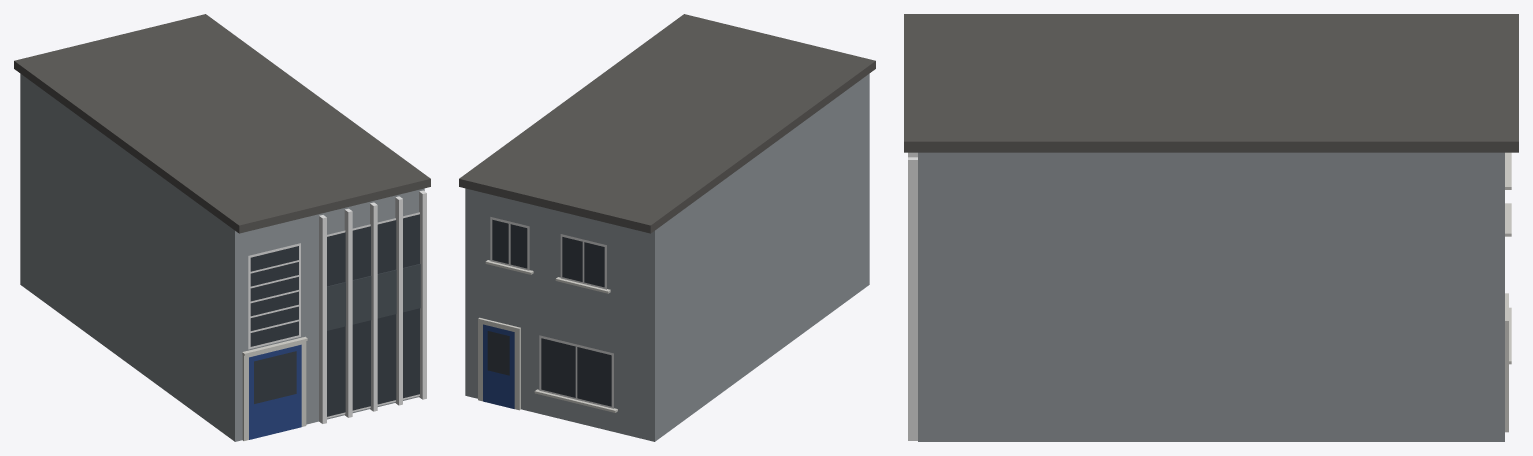
File: nw-nsn-glazed__grey__2__flat__long__solid.glb
The picture shows the model from 3 angles, left to right: view 1: azimuth 30°, elevation 25°; view 2: azimuth 150°, elevation 25°; view 3: azimuth 270°, elevation 25°; orthographic projection. The views are drawn at different scales.
Parts seen in each view (by area): view 1: nw-nsn-glazed__grey__2__flat__long__solid; view 2: nw-nsn-glazed__grey__2__flat__long__solid; view 3: nw-nsn-glazed__grey__2__flat__long__solid.
Boxes of the visible parts, x1,y1,x2,y2 form: nw-nsn-glazed__grey__2__flat__long__solid: (14, 14, 430, 441); nw-nsn-glazed__grey__2__flat__long__solid: (459, 14, 875, 441); nw-nsn-glazed__grey__2__flat__long__solid: (904, 14, 1518, 441).
Size of the model in its own units: 5.46 by 6 by 11.11.
